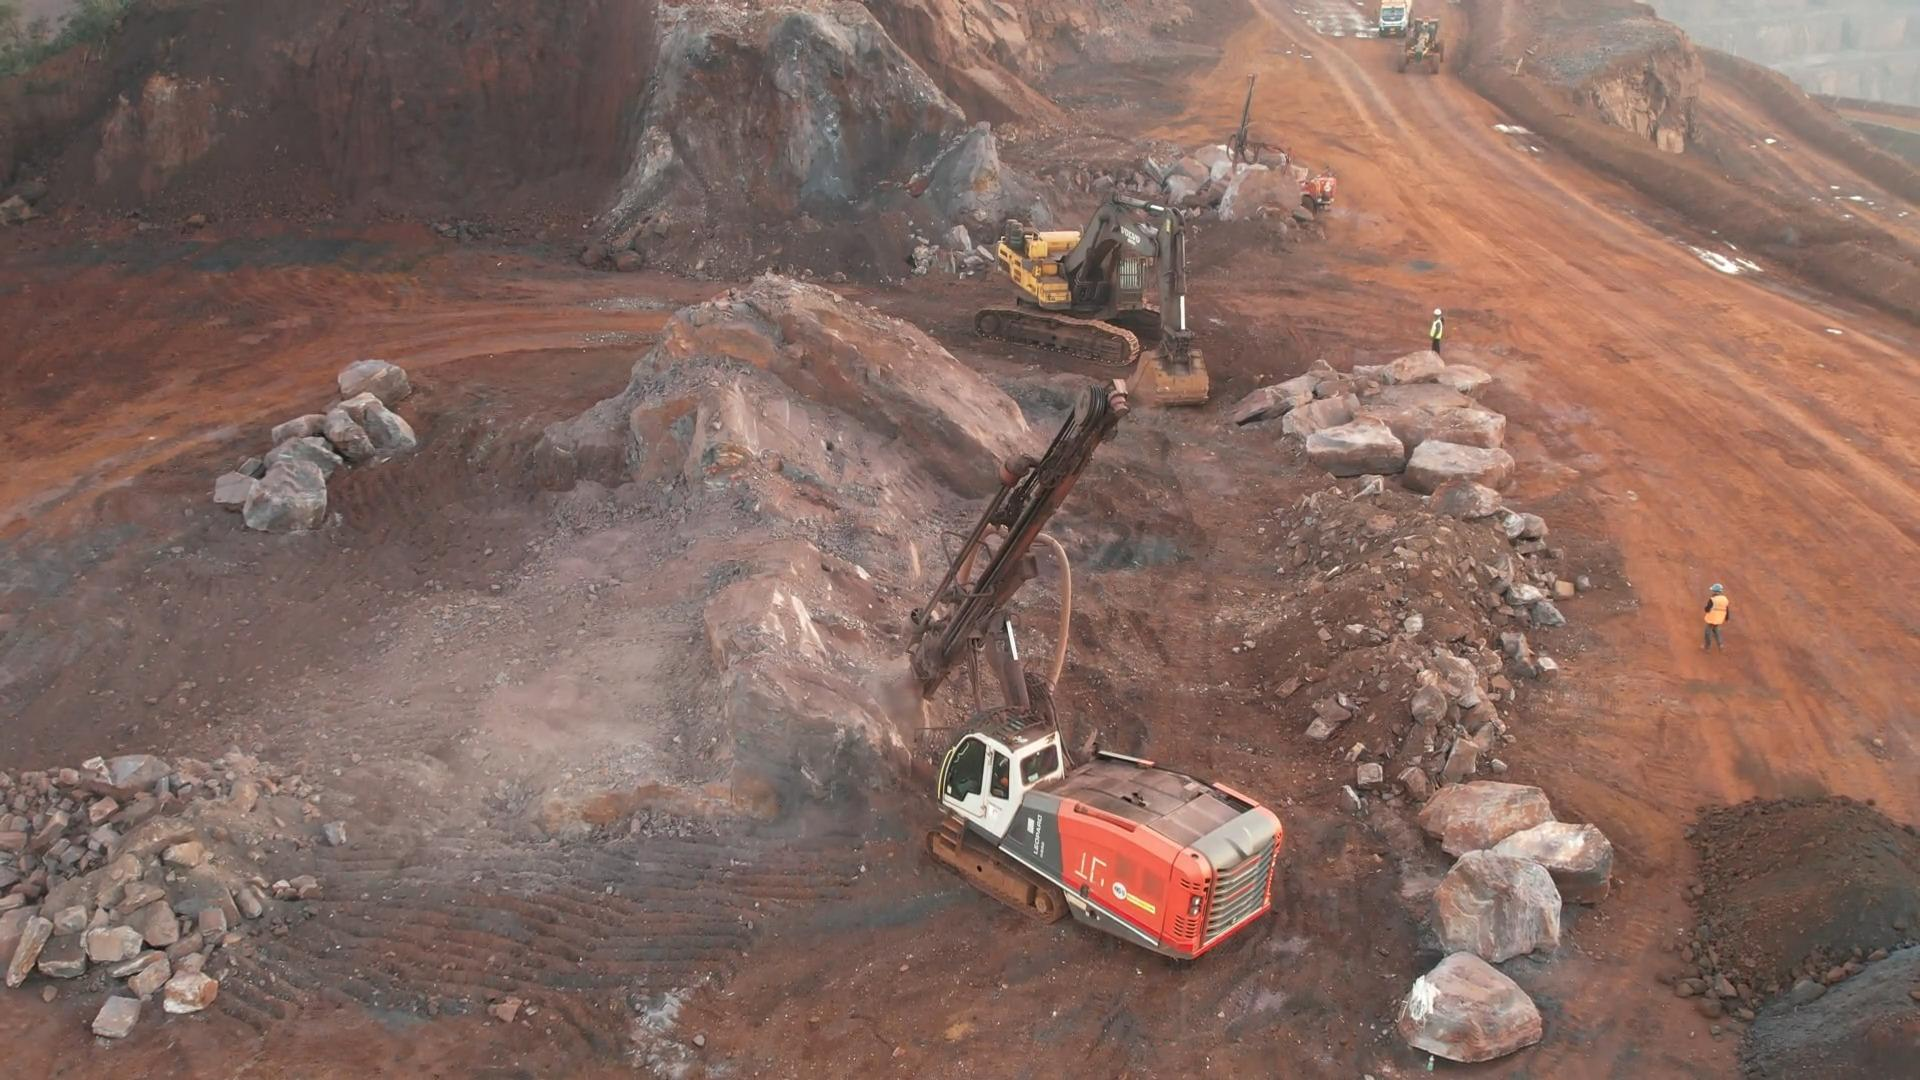excavator: (988, 202, 1209, 386)
